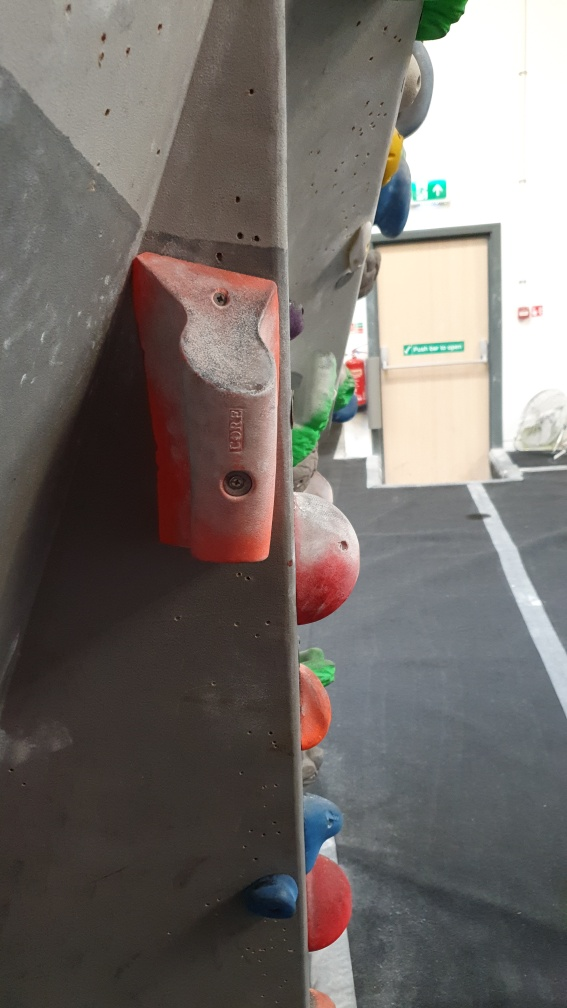Pinch: (123, 246, 289, 569)
Sloper: (287, 488, 363, 628), (299, 844, 355, 951)
